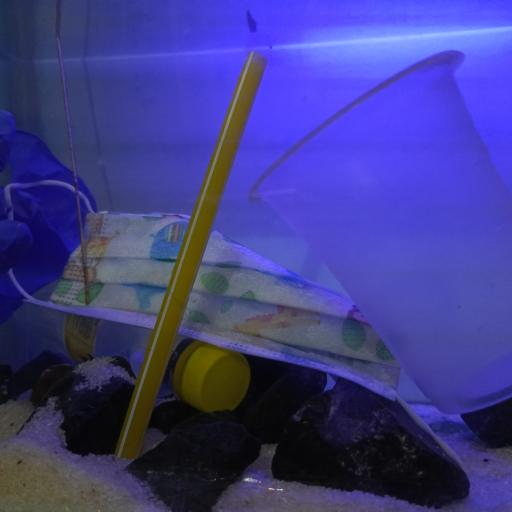bottle_cap: (179, 342, 253, 413)
glove: (0, 108, 99, 320)
mask: (6, 177, 407, 409)
plastic_bottle: (10, 286, 252, 412)
plastic_cup: (244, 49, 512, 414)
plastic_straw: (117, 50, 269, 464)
